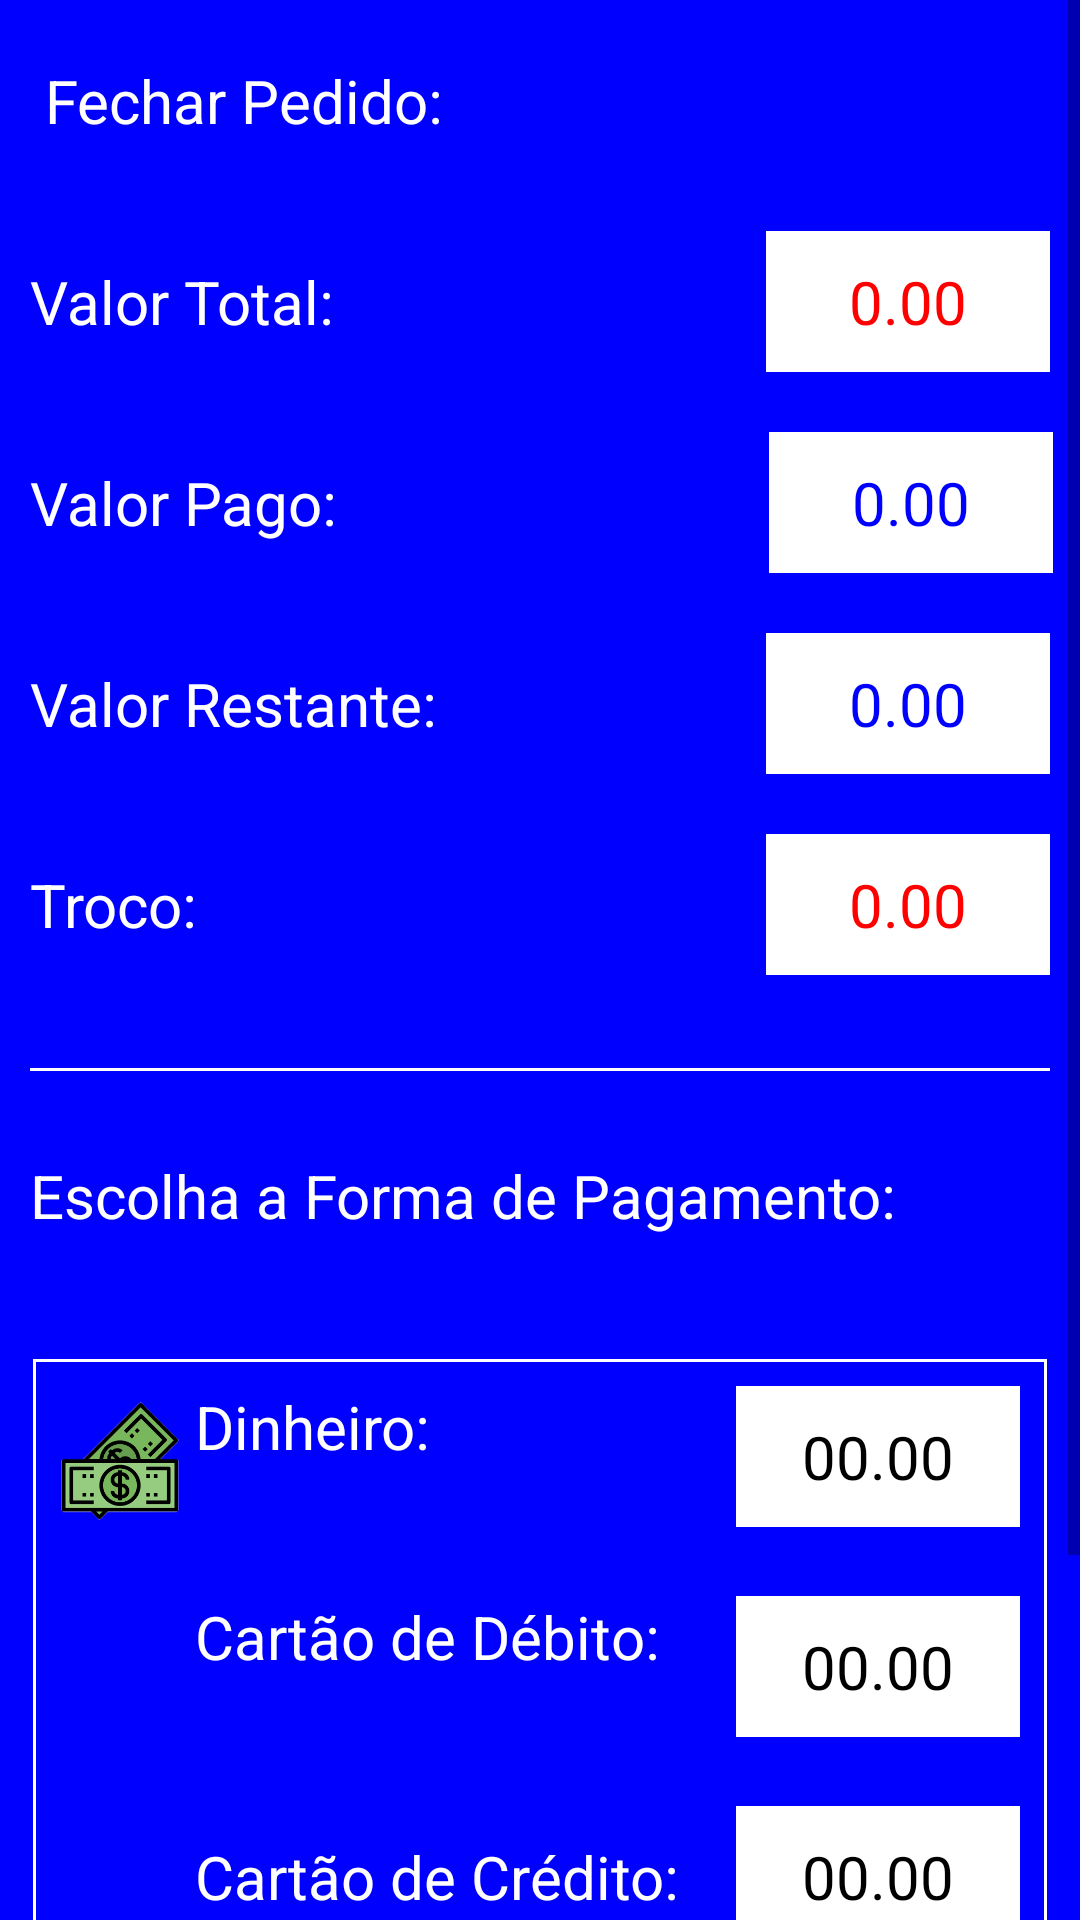

Where to tap for icons on this 1080x1920 app screen, as (x,y):
money: (120,1461)
